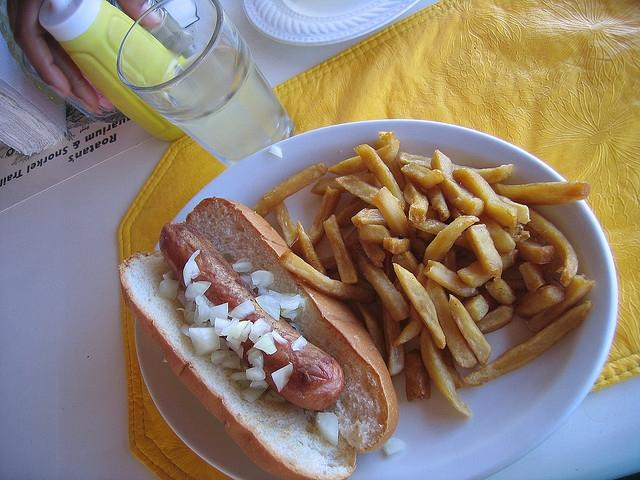onion: (189, 327, 221, 356), (316, 412, 338, 446), (256, 296, 280, 322), (271, 364, 293, 392), (226, 320, 251, 342), (228, 300, 255, 320), (185, 281, 211, 301), (176, 300, 196, 326), (254, 334, 277, 355), (158, 278, 178, 300), (210, 302, 228, 326), (382, 437, 404, 455), (211, 350, 239, 364), (221, 317, 240, 336), (280, 294, 301, 311), (253, 318, 272, 336), (253, 332, 275, 346), (246, 366, 266, 381), (250, 270, 268, 286), (271, 329, 288, 345), (198, 300, 210, 322), (292, 335, 308, 351), (222, 356, 240, 370), (232, 262, 253, 272), (268, 290, 284, 302), (177, 290, 187, 308), (190, 261, 200, 279), (253, 354, 264, 370), (250, 380, 268, 389), (240, 274, 252, 287), (270, 145, 282, 157), (230, 372, 248, 380), (162, 270, 175, 280), (236, 344, 244, 358)
